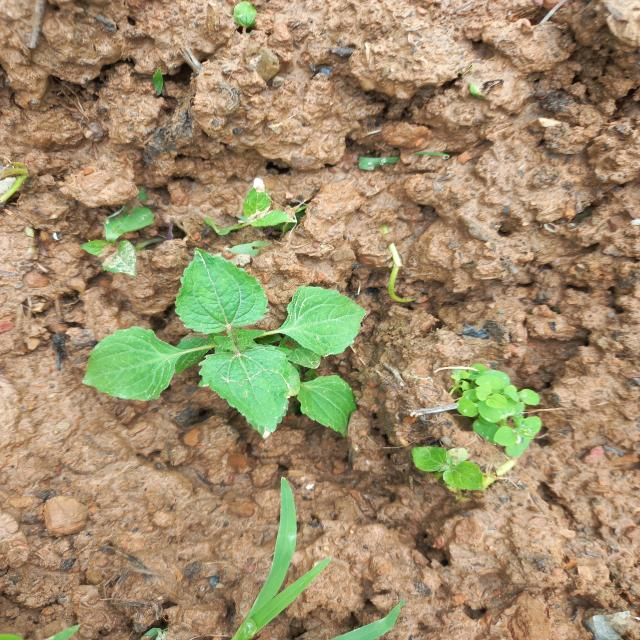maize: (188, 477, 405, 640)
weed: (74, 210, 380, 467), (382, 357, 582, 525)
